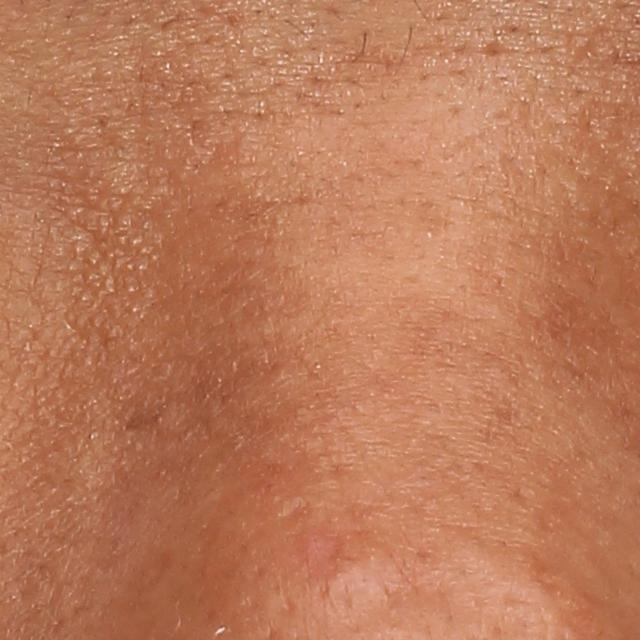atrophic_scar: (474, 36, 512, 56)
